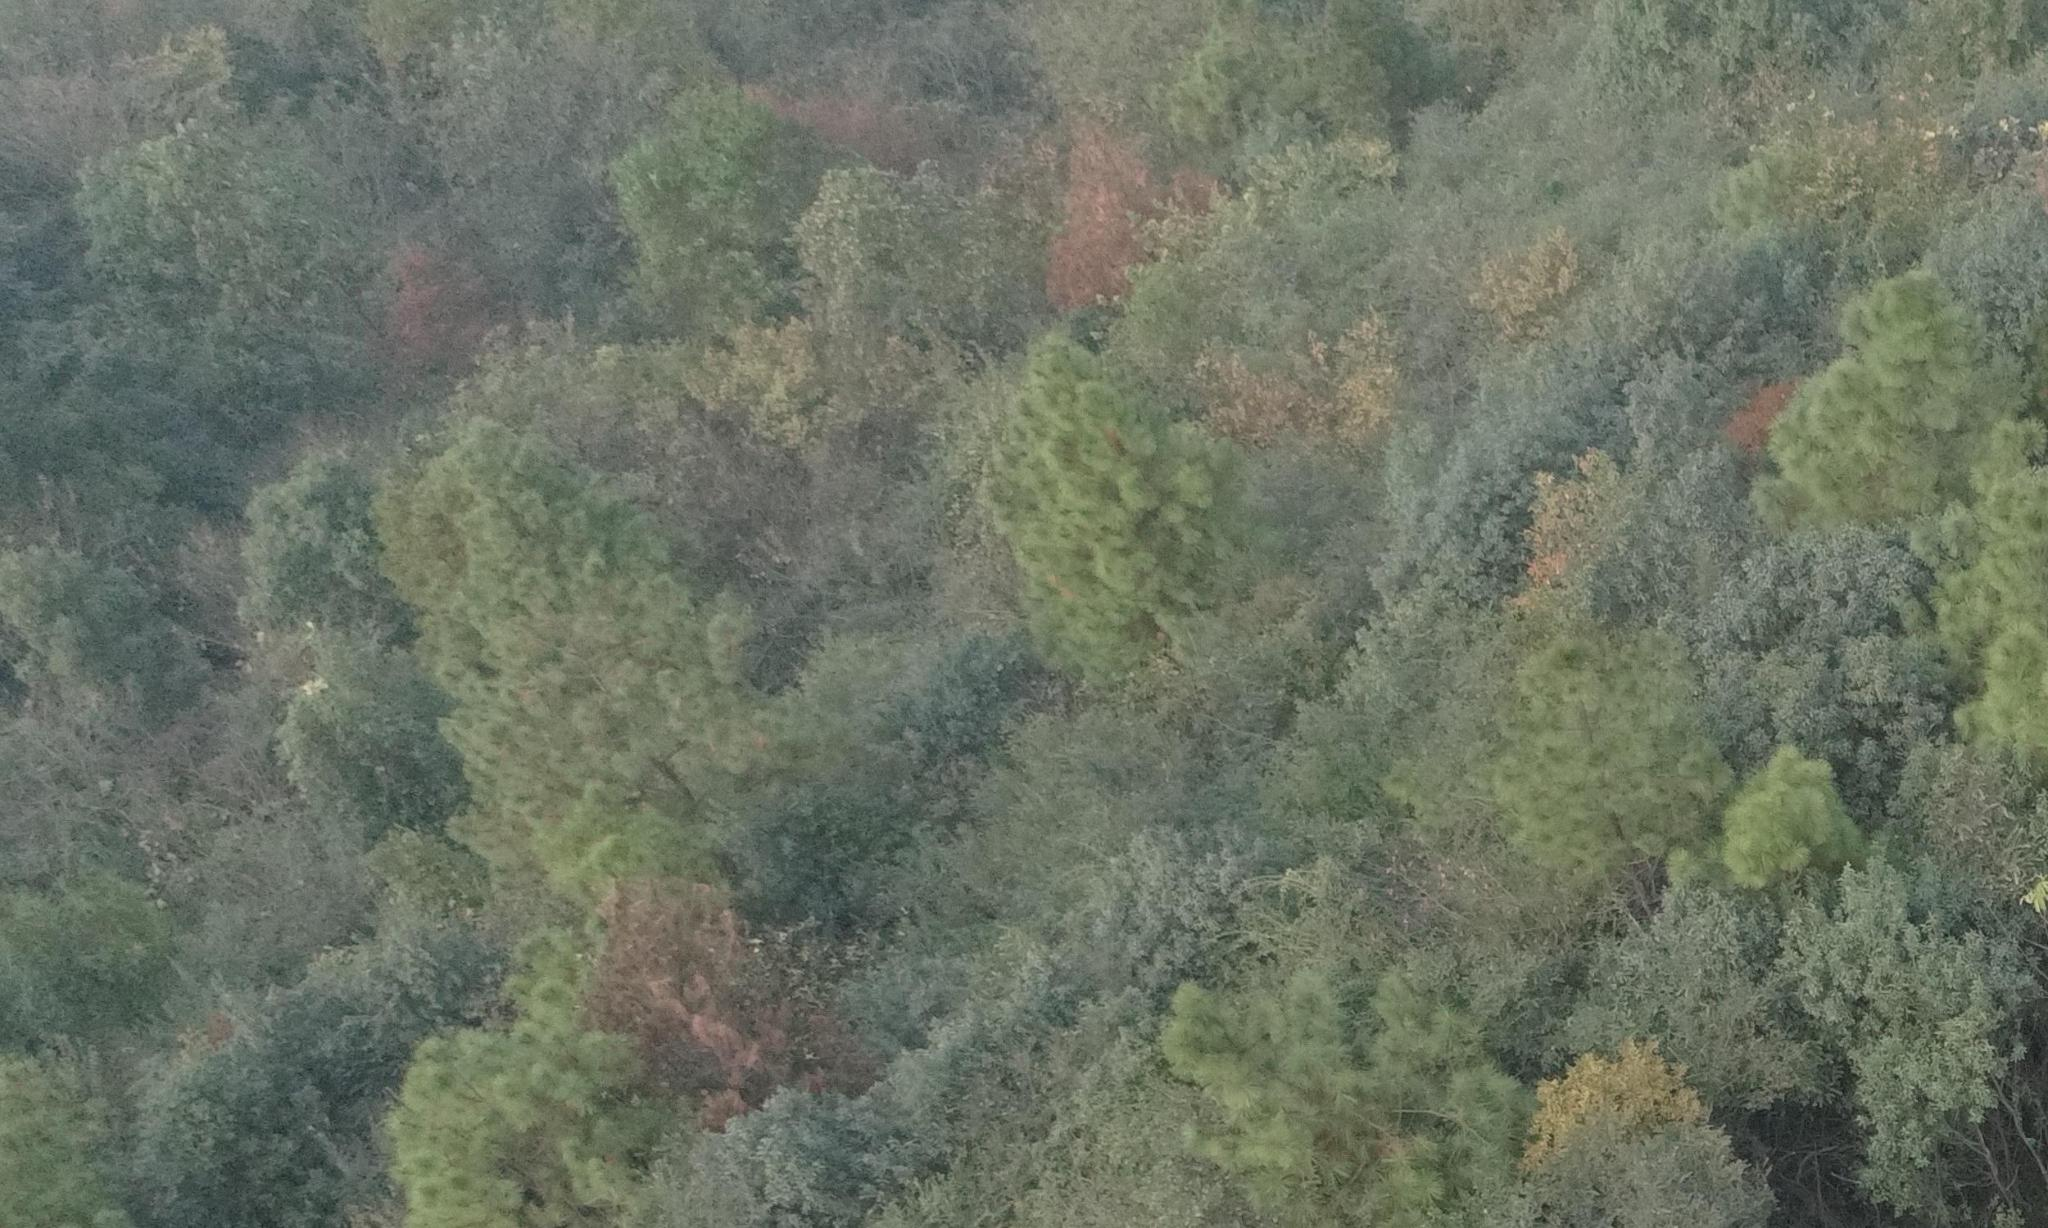heavy: (579, 895, 830, 1129), (1045, 137, 1226, 313)
